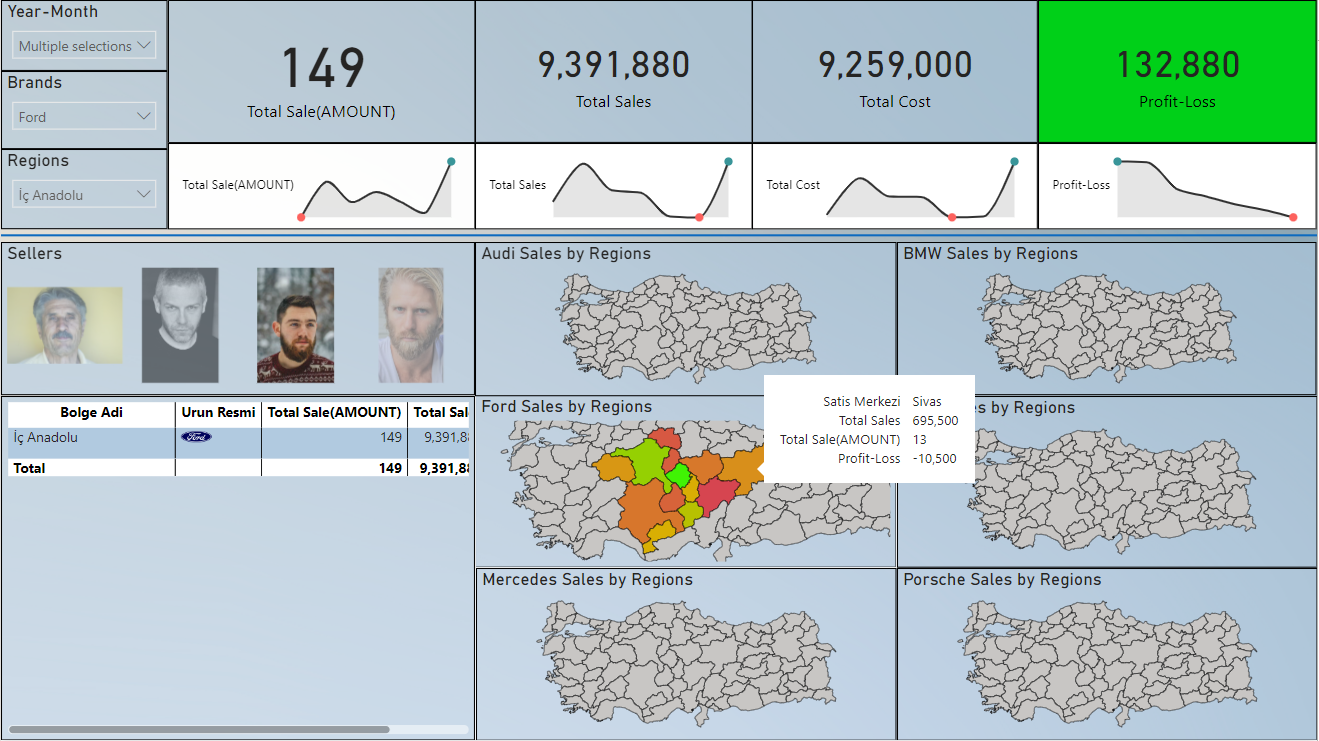

This screenshot's page, from the dashboard's own definition file:
{"tool":"powerbi","page":{"name":" Sales by Brands","canvas":[1280,720],"ordinal":1},"visuals":[{"type":"slicer","title":"Year-Month","fields":{"Values":["Satis Verileri.Yil-Ay"]},"box":[0,0,162.4,69.4],"z":0},{"type":"slicer","title":"Brands","fields":{"Values":["Urunler.Urun Adi"]},"box":[0,69.4,162.4,75.5],"z":1000},{"type":"card","fields":{"Values":["Measurements.Total Sale(AMOUNT)"]},"box":[162.4,0,298.5,138.7],"z":2000},{"type":"card","fields":{"Values":["Measurements.Total Sales"]},"box":[461,0,269.6,138.7],"z":3000},{"type":"card","fields":{"Values":["Measurements.Total Cost"]},"box":[730.5,0,278.3,138.7],"z":4000},{"type":"card","fields":{"Values":["Measurements.Profit-Loss"]},"box":[1008.9,0,271.3,138.7],"z":5000},{"type":"PBI_CV_25997FEB_F466_44FA_B562_AC4063283C4C","fields":{"axis":["Satis Verileri.Yil-Ay"],"measure":["Measurements.Total Sale(AMOUNT)"]},"box":[162.4,138.7,298.5,84.3],"z":6000},{"type":"PBI_CV_25997FEB_F466_44FA_B562_AC4063283C4C","fields":{"axis":["Satis Verileri.Yil-Ay"],"measure":["Measurements.Total Sales"]},"box":[461,138.7,269.6,84.3],"z":7000},{"type":"PBI_CV_25997FEB_F466_44FA_B562_AC4063283C4C","fields":{"axis":["Satis Verileri.Yil-Ay"],"measure":["Measurements.Total Cost"]},"box":[730.5,138.7,278.3,84.3],"z":8000},{"type":"PBI_CV_25997FEB_F466_44FA_B562_AC4063283C4C","fields":{"axis":["Satis Verileri.Yil-Ay"],"measure":["Measurements.Profit-Loss"]},"box":[1008.9,138.7,271.3,84.3],"z":9000},{"type":"shape","box":[0,223,1280.2,12.3],"z":10000},{"type":"tableEx","fields":{"Values":["Bolgeler.Bolge Adi","Urunler.Urun Resmi","Measurements.Total Sale(AMOUNT)","Measurements.Total Sales","Measurements.Total Cost"]},"box":[0,385.5,461,334.5],"z":11000},{"type":"slicer","title":"Regions","fields":{"Values":["Bolgeler.Bolge Adi"]},"box":[0,144.9,162.4,78.1],"z":12000},{"type":"ImageGrid_FC5183B9_926C_45E0_B5F7_0CE9EAF1DA9B","title":"Sellers","fields":{"ImageURLHQ":["Saticilar.Fotograf Linki"]},"box":[0,235.3,461,149.3],"z":13000},{"type":"shapeMap","title":"Jeep Sales by Regions","fields":{"Category":["Satis Verileri.Satis Merkezi"],"Value":["Measurements.Total Sales"]},"box":[871,385.5,409.2,166.8],"z":14000},{"type":"shapeMap","title":"Porsche Sales by Regions","fields":{"Category":["Satis Verileri.Satis Merkezi"],"Value":["Measurements.Total Sales"]},"box":[871,552.3,409.2,167.7],"z":15000},{"type":"shapeMap","title":"Ford Sales by Regions","fields":{"Category":["Satis Verileri.Satis Merkezi"],"Value":["Measurements.Total Sales"]},"box":[461,384.6,410,167.7],"z":16000},{"type":"shapeMap","title":"Mercedes Sales by Regions","fields":{"Category":["Satis Verileri.Satis Merkezi"],"Value":["Measurements.Total Sales"]},"box":[461.9,552.3,409.2,167.7],"z":17000},{"type":"shapeMap","title":"BMW Sales by Regions","fields":{"Category":["Satis Verileri.Satis Merkezi"],"Value":["Measurements.Total Sales"]},"box":[871,235.3,408.3,149.3],"z":18000},{"type":"shapeMap","title":"Audi Sales by Regions","fields":{"Category":["Satis Verileri.Satis Merkezi"],"Value":["Measurements.Total Sales"]},"box":[461,235.3,410,150.1],"z":19000}]}

Visuals, with their boxes in screenshot pixels (x1, y1, x2, y2), scaled from the page's 1280x720 canvas onto the 1319x741 screenshot:
"Year-Month" slicer: region(0, 0, 167, 71)
"Brands" slicer: region(0, 71, 167, 149)
card - Measurements.Total Sale(AMOUNT): region(167, 0, 475, 143)
card - Measurements.Total Sales: region(475, 0, 753, 143)
card - Measurements.Total Cost: region(753, 0, 1040, 143)
card - Measurements.Profit-Loss: region(1040, 0, 1318, 143)
PBI_CV_25997FEB_F466_44FA_B562_AC4063283C4C - Satis Verileri.Yil-Ay x Measurements.Total Sale(AMOUNT): region(167, 143, 475, 230)
PBI_CV_25997FEB_F466_44FA_B562_AC4063283C4C - Satis Verileri.Yil-Ay x Measurements.Total Sales: region(475, 143, 753, 230)
PBI_CV_25997FEB_F466_44FA_B562_AC4063283C4C - Satis Verileri.Yil-Ay x Measurements.Total Cost: region(753, 143, 1040, 230)
PBI_CV_25997FEB_F466_44FA_B562_AC4063283C4C - Satis Verileri.Yil-Ay x Measurements.Profit-Loss: region(1040, 143, 1318, 230)
shape: region(0, 230, 1318, 242)
tableEx - Bolgeler.Bolge Adi x Urunler.Urun Resmi: region(0, 397, 475, 740)
"Regions" slicer: region(0, 149, 167, 230)
"Sellers" ImageGrid_FC5183B9_926C_45E0_B5F7_0CE9EAF1DA9B: region(0, 242, 475, 396)
"Jeep Sales by Regions" shapeMap: region(898, 397, 1318, 568)
"Porsche Sales by Regions" shapeMap: region(898, 568, 1318, 740)
"Ford Sales by Regions" shapeMap: region(475, 396, 898, 568)
"Mercedes Sales by Regions" shapeMap: region(476, 568, 898, 740)
"BMW Sales by Regions" shapeMap: region(898, 242, 1318, 396)
"Audi Sales by Regions" shapeMap: region(475, 242, 898, 397)
